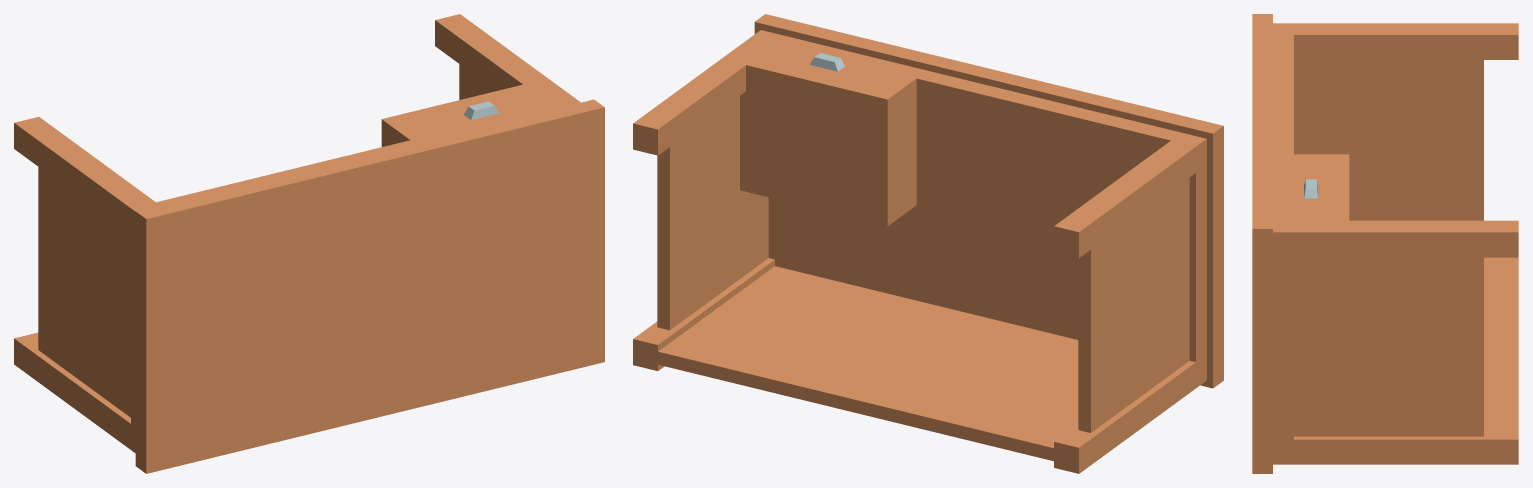
The model's file is desk.obj.
The picture shows the model from 3 angles, left to right: view 1: azimuth 30°, elevation 25°; view 2: azimuth 150°, elevation 25°; view 3: azimuth 270°, elevation 25°; orthographic projection. The views are drawn at different scales.
Visible parts, largest first — view 1: desk, drawer; view 2: desk, drawer; view 3: desk, drawer.
Part boxes in pixels (box(x1,y1,x2,y2)): desk: box(14, 14, 604, 473); drawer: box(411, 92, 551, 135); desk: box(633, 14, 1223, 473); drawer: box(757, 44, 897, 86); desk: box(1252, 14, 1518, 473); drawer: box(1294, 163, 1328, 220).
Size of the model in its own units: 1.47 by 0.7846 by 0.7688.
